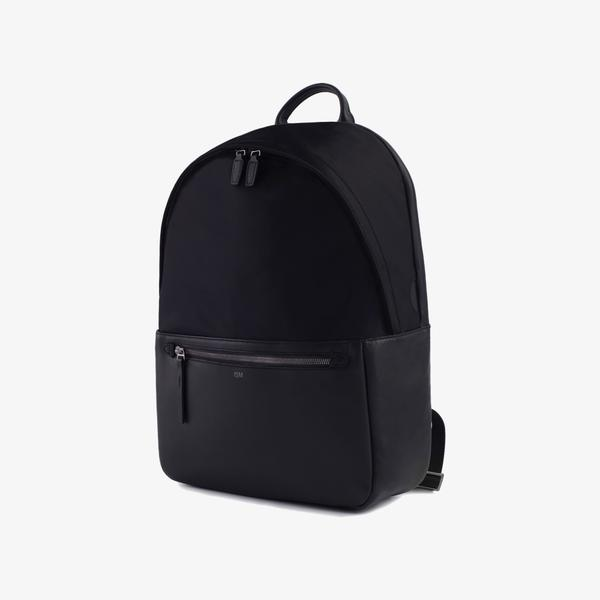backpack: (150, 80, 450, 518)
